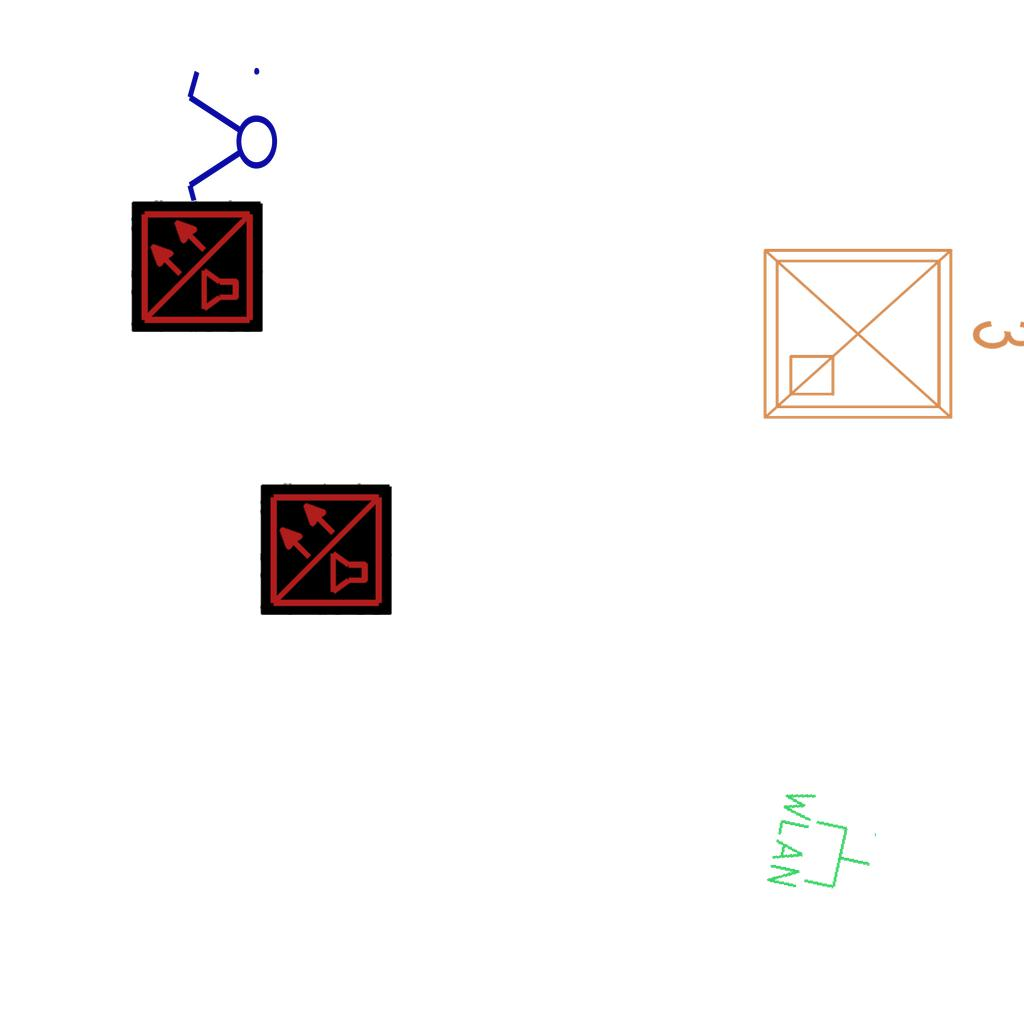Einbaudownlights_LED_Konferenzraeume: (749, 226, 1024, 434)
OKW_Multisensormelder_(Kombination_optischer_Rauch-Kahlenmonoxid_Waerme-Melder): (260, 483, 392, 615), (131, 200, 263, 332)
Serienschalter: (183, 59, 279, 227)
WLAN: (762, 782, 886, 907)
